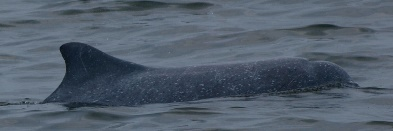fin: (39, 32, 364, 109)
